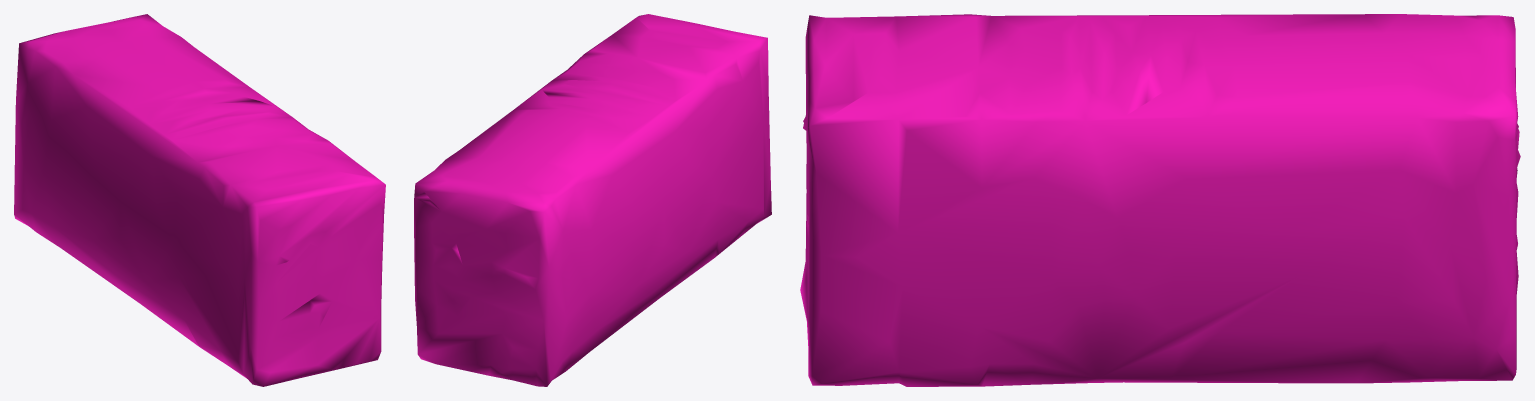
Rendered from rectangularCube1_5.dae.
3 renders of one model, left to right at view 1: azimuth 30°, elevation 25°; view 2: azimuth 150°, elevation 25°; view 3: azimuth 270°, elevation 25°, orthographic. The views are drawn at different scales.
Visible parts, largest first — view 1: BlueSaltCube_800_tex_019; view 2: BlueSaltCube_800_tex_019; view 3: BlueSaltCube_800_tex_019.
Part boxes in pixels (x1,y1,x2,y2): BlueSaltCube_800_tex_019: (14,14,385,386); BlueSaltCube_800_tex_019: (414,14,771,386); BlueSaltCube_800_tex_019: (800,14,1520,386).
Bounding box in the file's own units: 0.0366 × 0.0986 × 0.045.
